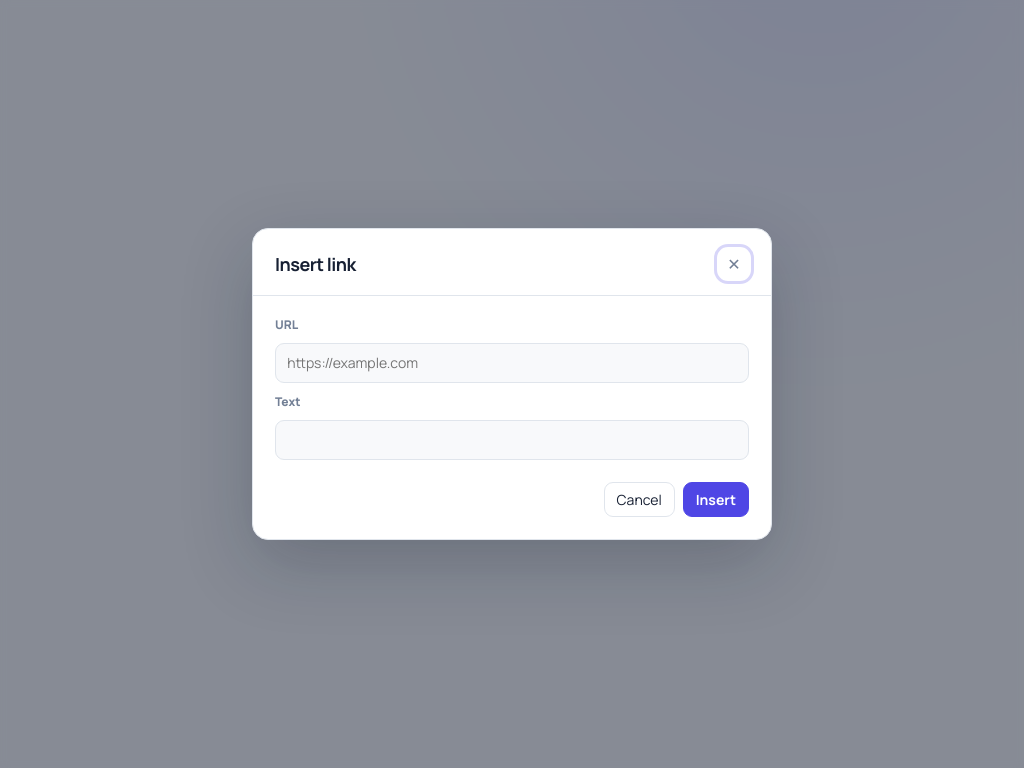
Test: LinkDialog › rejects unsafe URLs and does not submit
Type "javascript:alert(1)" into the field labelled "URL". click: x=512, y=363
box: [275,343,749,383]
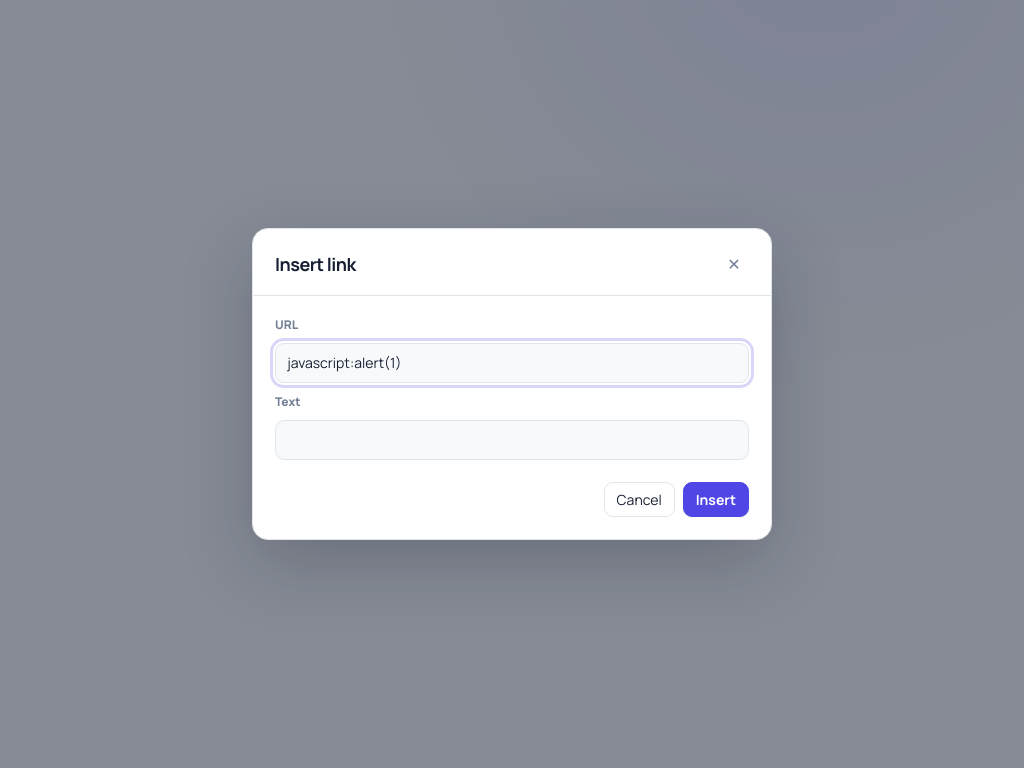
Click the button "Insert". click: x=716, y=500
box: [683,482,749,517]
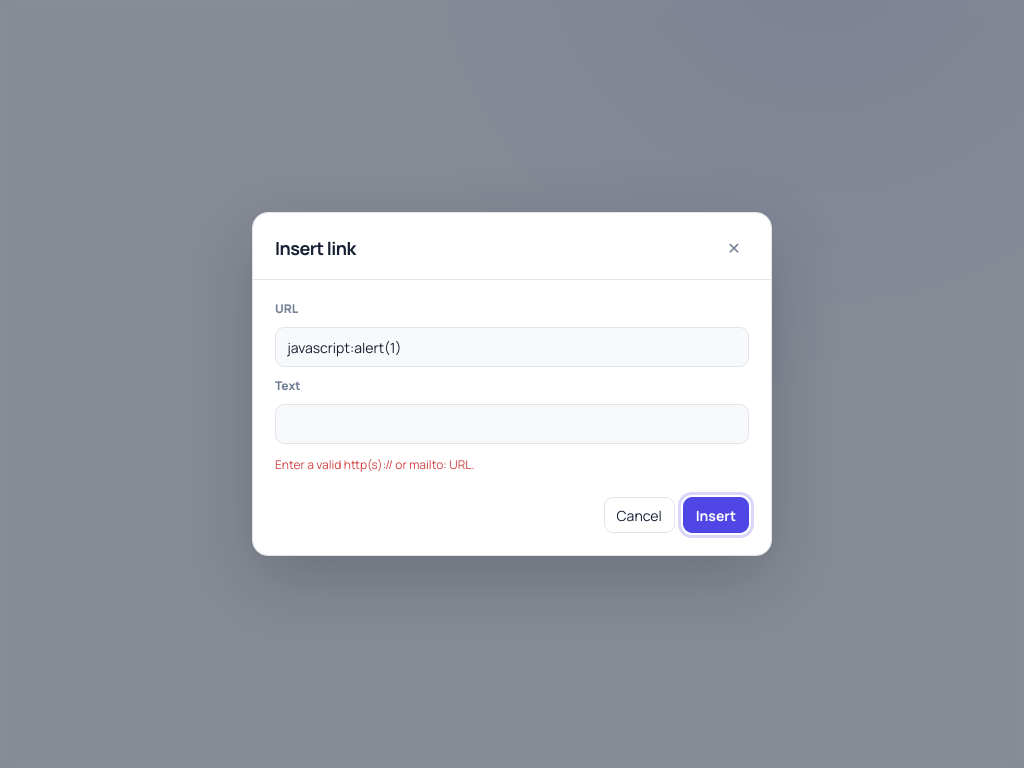
Result: the message "Enter a valid http(s):// or mailto: URL." is shown at [275,456,474,473]
